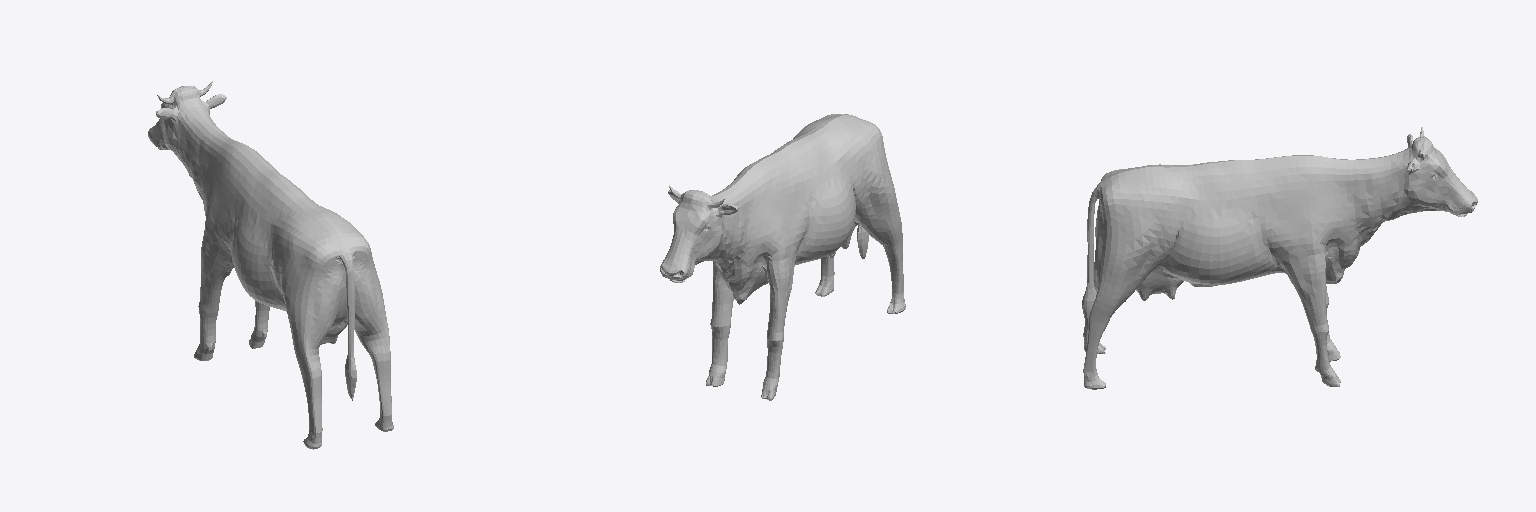
File: Cow.obj
3 renders of one model, left to right at view 1: azimuth 30°, elevation 25°; view 2: azimuth 150°, elevation 25°; view 3: azimuth 270°, elevation 25°, orthographic.
Visible parts, largest first — view 1: vaca_meshId0_name; view 2: vaca_meshId0_name; view 3: vaca_meshId0_name.
Boxes of the visible parts, <box> form: vaca_meshId0_name: <box>148,81,393,449</box>; vaca_meshId0_name: <box>660,114,905,400</box>; vaca_meshId0_name: <box>1082,127,1477,389</box>.
Bounding box in the file's own units: 0.0053 × 0.013 × 0.02.